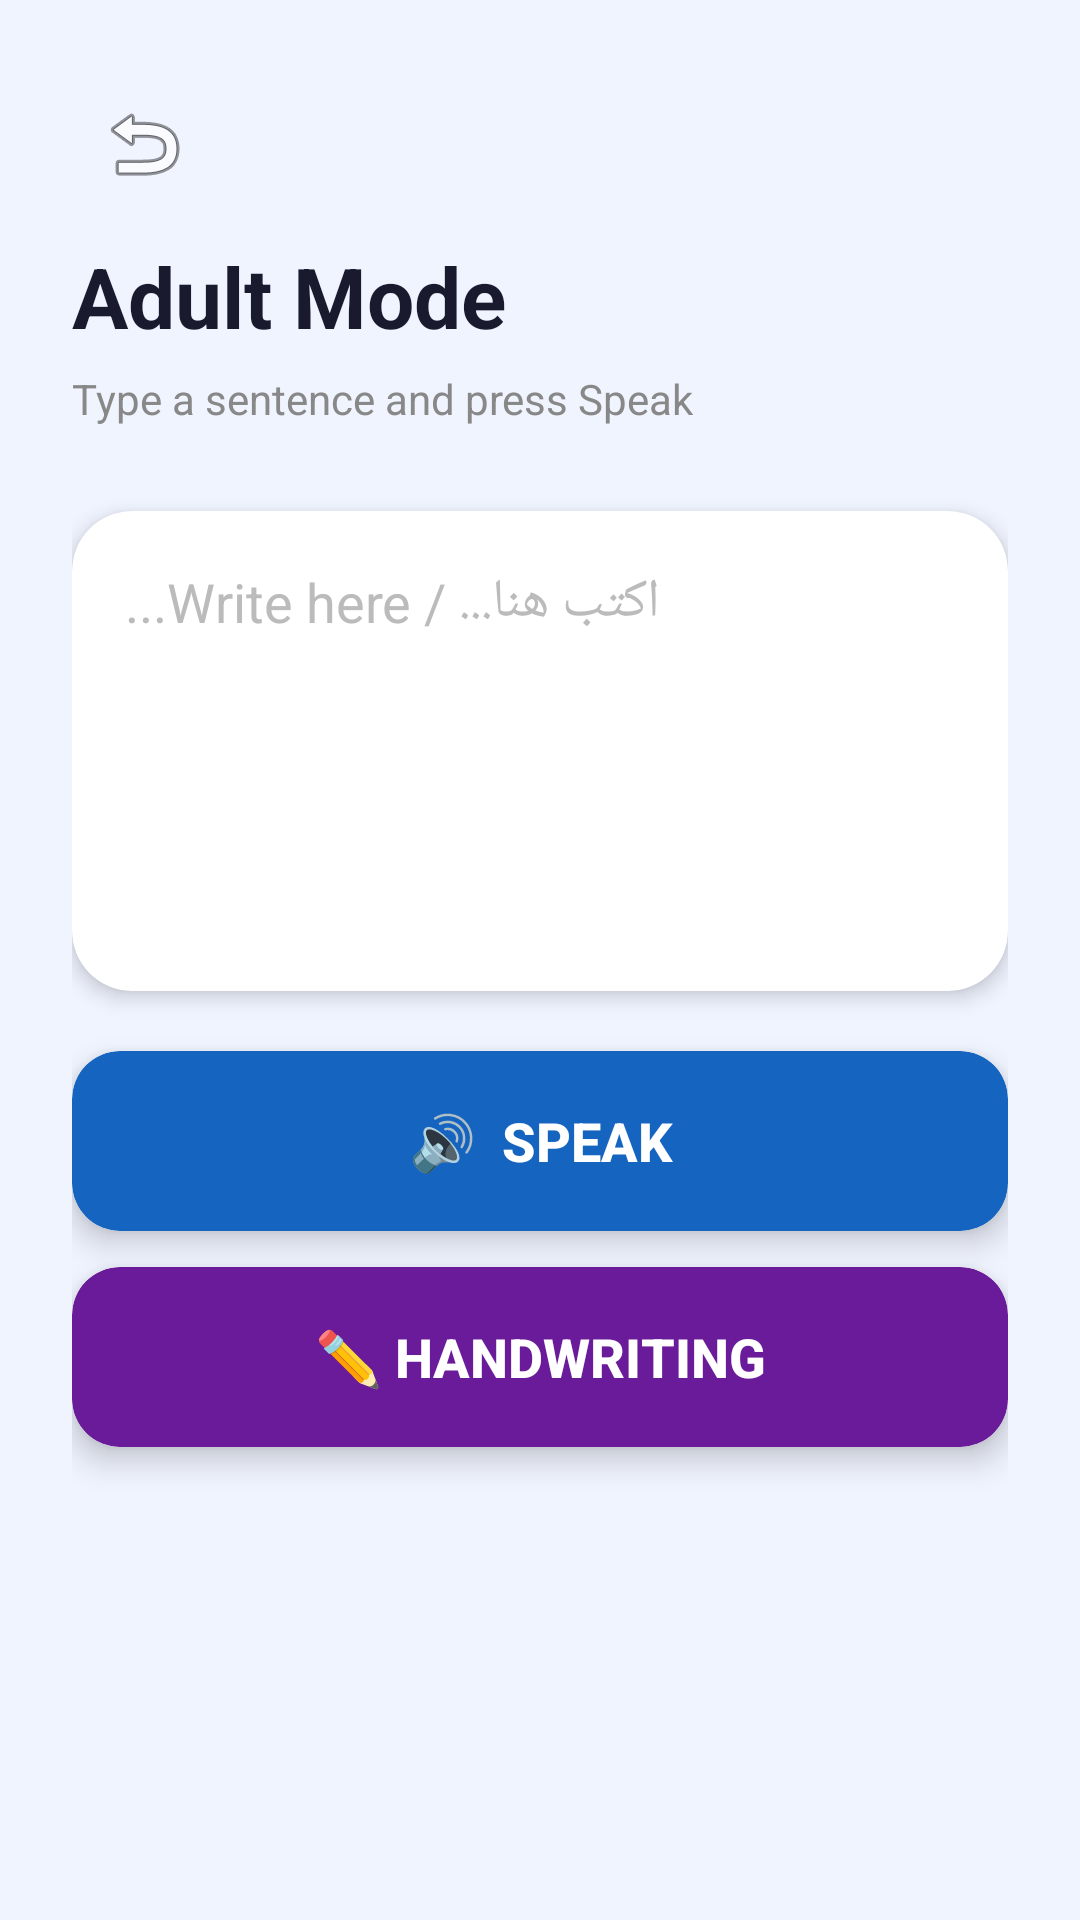

Icons on this 1080px×1920px Android screen, each with the point to tap as point (x, y):
revert: point (145, 144)
